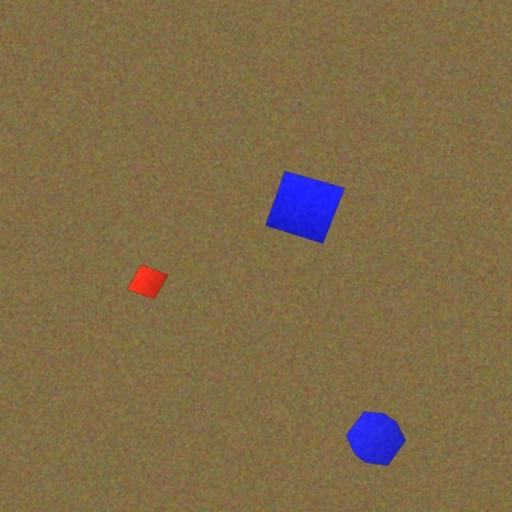BLUE_SQUARE: (264, 170, 346, 244)
RED_SQUARE: (126, 264, 169, 300)
